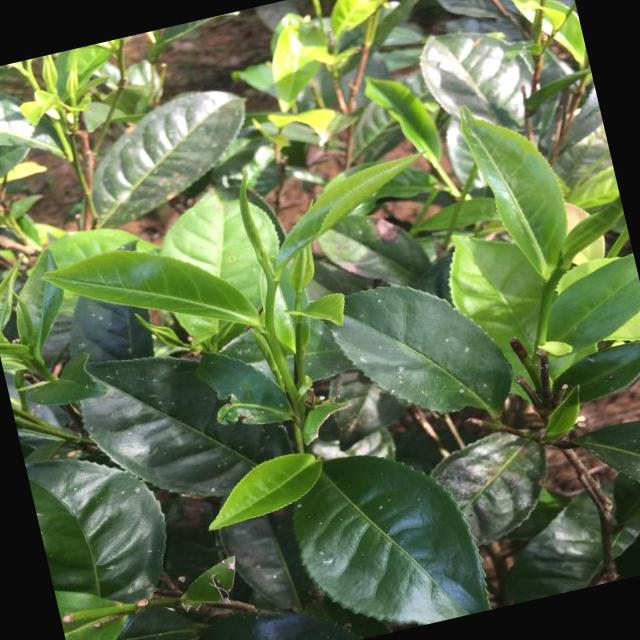Stem: (543, 286, 553, 298), (268, 280, 276, 293)
